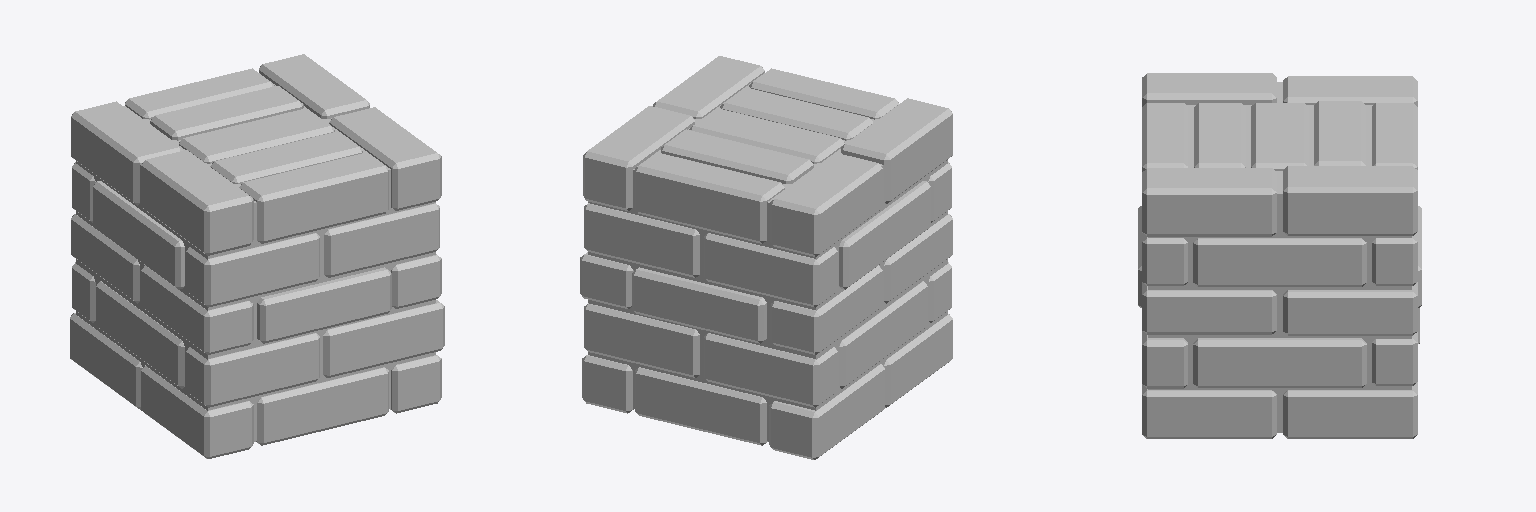
The picture shows the model from 3 angles: view 1: azimuth 30°, elevation 25°; view 2: azimuth 150°, elevation 25°; view 3: azimuth 270°, elevation 25°; orthographic projection.
Parts seen in each view (by area): view 1: Cube_Bricks; view 2: Cube_Bricks; view 3: Cube_Bricks.
Boxes of the visible parts, x1=… form: Cube_Bricks: x1=70, y1=54, x2=444, y2=458; Cube_Bricks: x1=580, y1=56, x2=952, y2=459; Cube_Bricks: x1=1138, y1=73, x2=1421, y2=438.
Size of the model in its own units: 2.04 by 2.03 by 2.06.